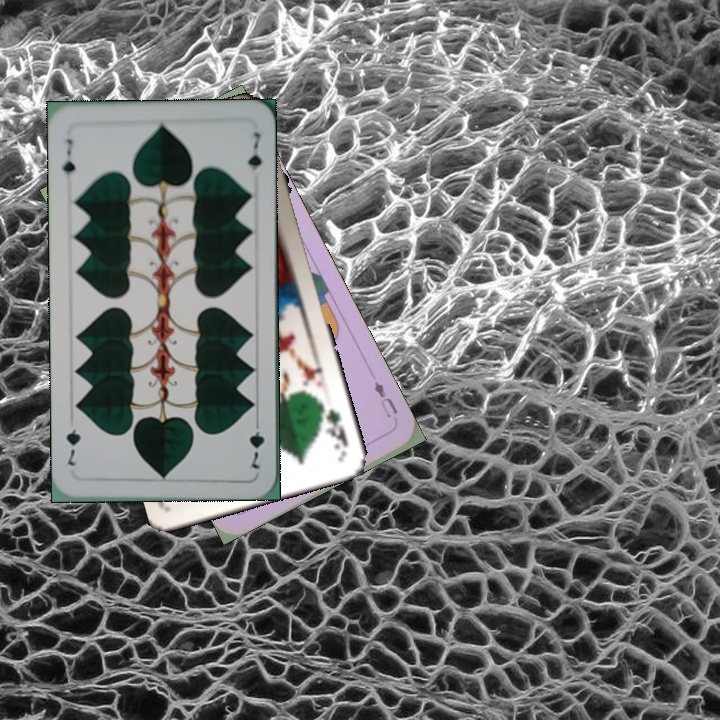EU: (370, 377, 400, 421)
G7: (246, 414, 267, 471), (59, 134, 78, 185)
GK: (316, 399, 351, 455)
